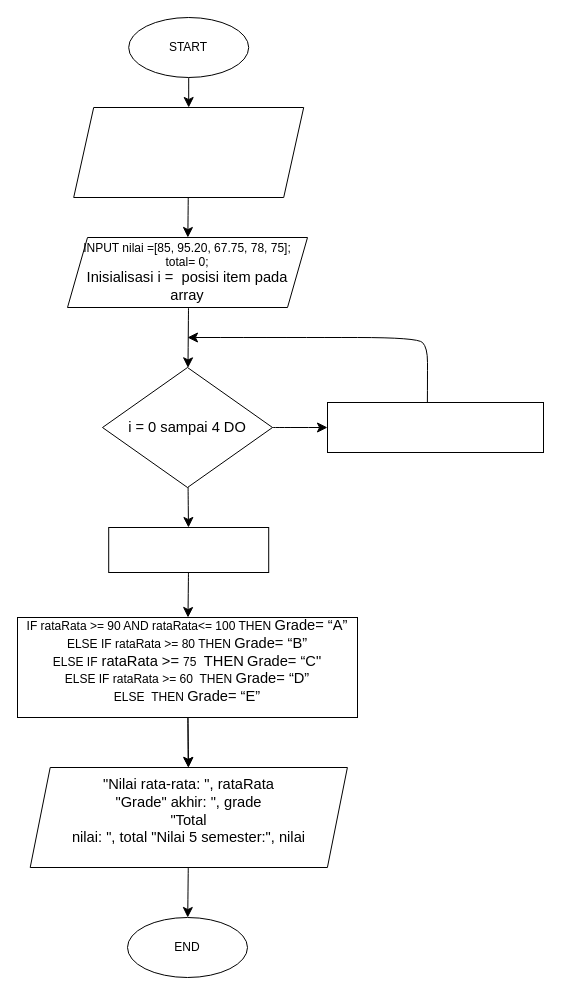
This 561x995 diagram has some shape labels left out. Here are the shapes that lost their labels. From the top down, the centre of each, then its label:
At [188,152]: "nilai[5]; total; rataRata; grade;".
At [435,427]: "total = total + nilai[i]".
At [188,549]: "rataRata = total / 5".
